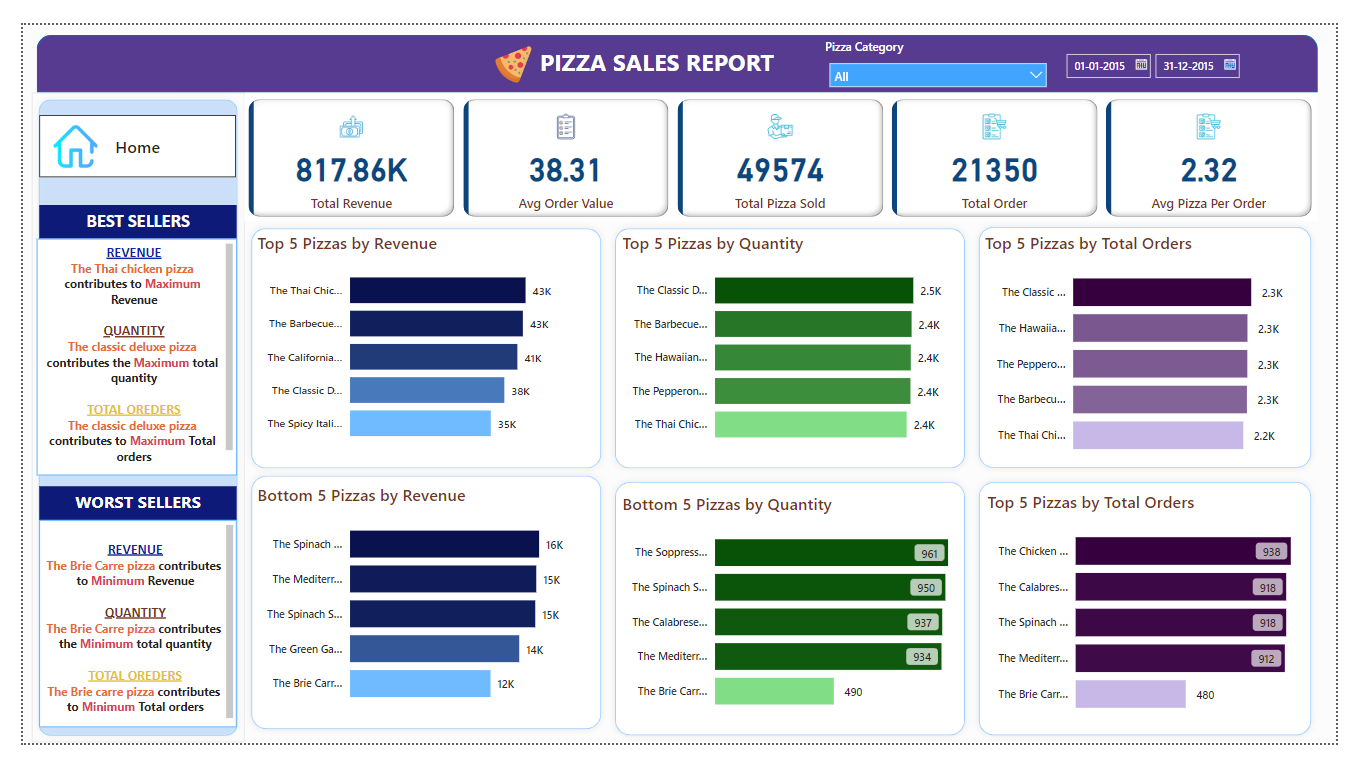

What the dashboard file says about the page in this screenshot:
{"tool":"powerbi","page":{"name":"Best & Worst Sellers","canvas":[1500,820],"ordinal":1},"visuals":[{"type":"shape","box":[10,77.1,242.9,742.9],"z":0},{"type":"cardVisual","fields":{"Data":["pizza_sales.Total Revenue","pizza_sales.Avg Order Value","pizza_sales.Total Pizza Sold","pizza_sales.Total Order","pizza_sales.Avg Pizza Per Order"]},"box":[252.9,80,1227.1,144.3],"z":1000},{"type":"shape","box":[15.7,11.4,1464.3,65.7],"z":2000},{"type":"textbox","box":[585.7,18.6,324.3,68.6],"z":3000},{"type":"image","box":[522.9,18.6,74.3,52.9],"z":4000},{"type":"shape","box":[252.9,224.3,415.7,290],"z":5000},{"type":"textbox","box":[18.6,205.7,225.7,38.6],"z":6000},{"type":"textbox","box":[15.7,244.3,228.6,270],"z":7000},{"type":"textbox","box":[18.6,527.1,225.7,38.6],"z":8000},{"type":"textbox","box":[18.6,565.7,225.7,237.1],"z":9000},{"type":"slicer","title":"Pizza Category","fields":{"Values":["pizza_sales.pizza_category"]},"box":[911.4,15.7,268.6,58.6],"z":10000},{"type":"slicer","title":"Pizza Category","fields":{"Values":["pizza_sales.order_date"]},"box":[1180,22.9,222.9,57.1],"z":11000},{"type":"shape","box":[668.6,224.3,415.7,290],"z":12000},{"type":"shape","box":[1084.3,222.9,395.7,291.4],"z":13000},{"type":"shape","box":[252.9,507.1,415.7,305.7],"z":14000},{"type":"shape","box":[668.6,514.3,415.7,305.7],"z":15000},{"type":"shape","box":[1084.3,514.3,395.7,305.7],"z":16000},{"type":"barChart","title":"Top 5 Pizzas by Revenue","fields":{"Category":["pizza_sales.pizza_name"],"Y":["pizza_sales.Total Revenue"]},"box":[262.9,235.7,392.9,255.7],"z":17000},{"type":"barChart","title":"Bottom 5 Pizzas by Revenue","fields":{"Category":["pizza_sales.pizza_name"],"Y":["pizza_sales.Total Revenue"]},"box":[262.9,524.3,392.9,265.7],"z":18000},{"type":"barChart","title":"Top 5 Pizzas by Quantity","fields":{"Category":["pizza_sales.pizza_name"],"Y":["pizza_sales.Total Pizza Sold"]},"box":[680,235.7,392.9,257.1],"z":19000},{"type":"barChart","title":"Bottom 5 Pizzas by Quantity","fields":{"Category":["pizza_sales.pizza_name"],"Y":["pizza_sales.Total Pizza Sold"]},"box":[680,534.3,392.9,264.3],"z":20000},{"type":"barChart","title":"Top 5 Pizzas by Total Orders","fields":{"Category":["pizza_sales.pizza_name"],"Y":["pizza_sales.Total Order"]},"box":[1094.3,235.7,372.9,271.4],"z":21000},{"type":"barChart","title":"Top 5 Pizzas by Total Orders","fields":{"Category":["pizza_sales.pizza_name"],"Y":["pizza_sales.Total Order"]},"box":[1097.1,531.4,372.9,271.4],"z":22000},{"type":"pageNavigator","box":[18.6,102.9,225.7,71.4],"z":23000},{"type":"image","box":[30,108.6,60,60],"z":24000}]}

Visuals, with their boxes on the page's 1500x820 design canvas (x1, y1, x2, y2). These are canvas units, not pixel positions in the 1354x769 screenshot, which may show the page scaled, cropped or inside an application window:
shape: [10,77,253,820]
cardVisual - pizza_sales.Total Revenue x pizza_sales.Avg Order Value: [253,80,1480,224]
shape: [16,11,1480,77]
textbox: [586,19,910,87]
image: [523,19,597,72]
shape: [253,224,669,514]
textbox: [19,206,244,244]
textbox: [16,244,244,514]
textbox: [19,527,244,566]
textbox: [19,566,244,803]
"Pizza Category" slicer: [911,16,1180,74]
"Pizza Category" slicer: [1180,23,1403,80]
shape: [669,224,1084,514]
shape: [1084,223,1480,514]
shape: [253,507,669,813]
shape: [669,514,1084,820]
shape: [1084,514,1480,820]
"Top 5 Pizzas by Revenue" barChart: [263,236,656,491]
"Bottom 5 Pizzas by Revenue" barChart: [263,524,656,790]
"Top 5 Pizzas by Quantity" barChart: [680,236,1073,493]
"Bottom 5 Pizzas by Quantity" barChart: [680,534,1073,799]
"Top 5 Pizzas by Total Orders" barChart: [1094,236,1467,507]
"Top 5 Pizzas by Total Orders" barChart: [1097,531,1470,803]
pageNavigator: [19,103,244,174]
image: [30,109,90,169]
